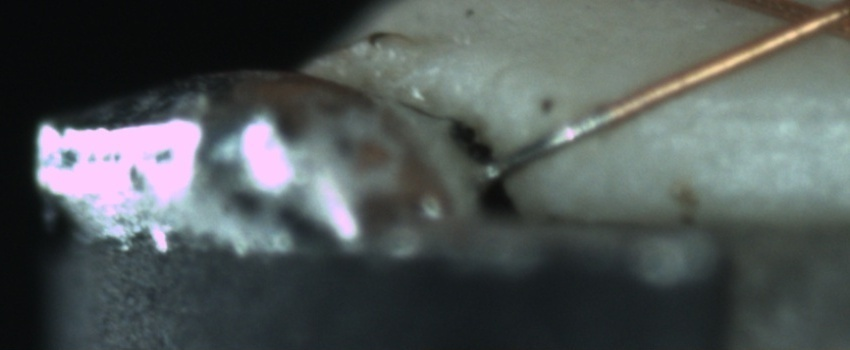CL: (759, 0, 847, 47)
DL: (683, 80, 850, 149)
TS: (488, 108, 614, 180)
TTCW: (485, 94, 635, 183)
